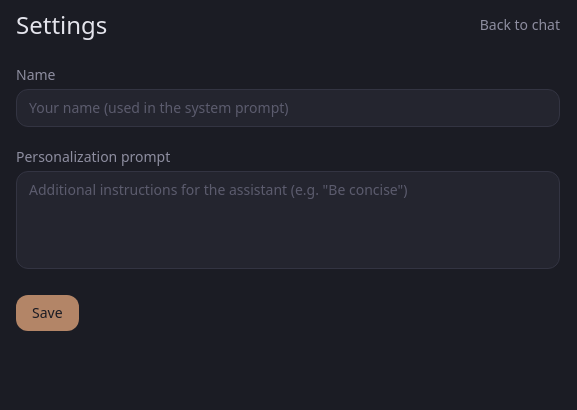
Test: SettingsForm — saving › POSTs updated settings and shows success feedback
Note: Fields are immediately available — no waitFor
Type "Bob" into the field labelled "Name" at (288, 108), box [16,89,560,127]
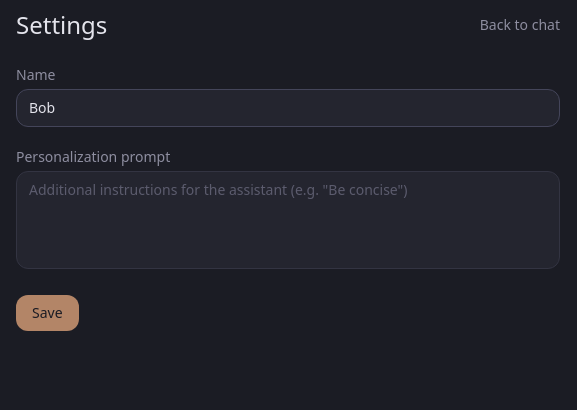
Type "Be helpful" into the text box labelled "Personalization prompt" at (288, 220), box [16,171,560,269]
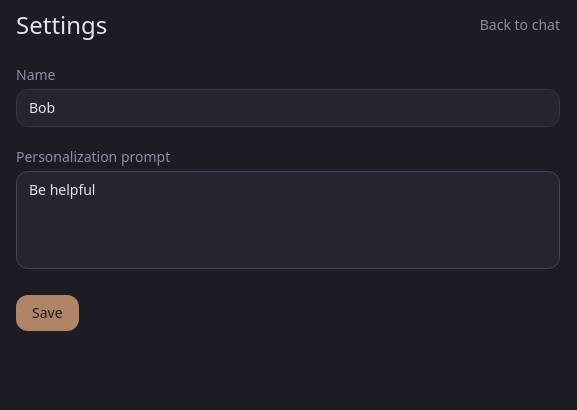
Click the button "Save" at (47, 313), box [16,295,79,331]
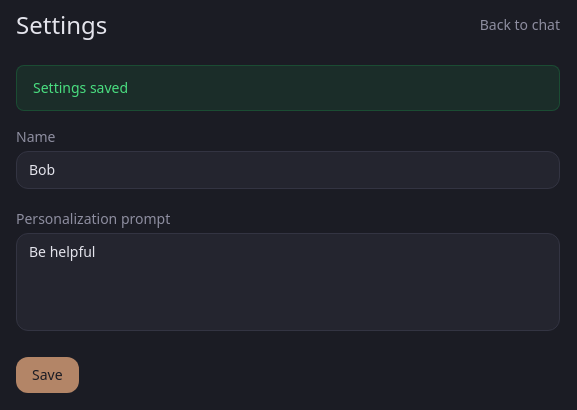
Now the text "Settings saved" is shown, box [16,65,560,111]
